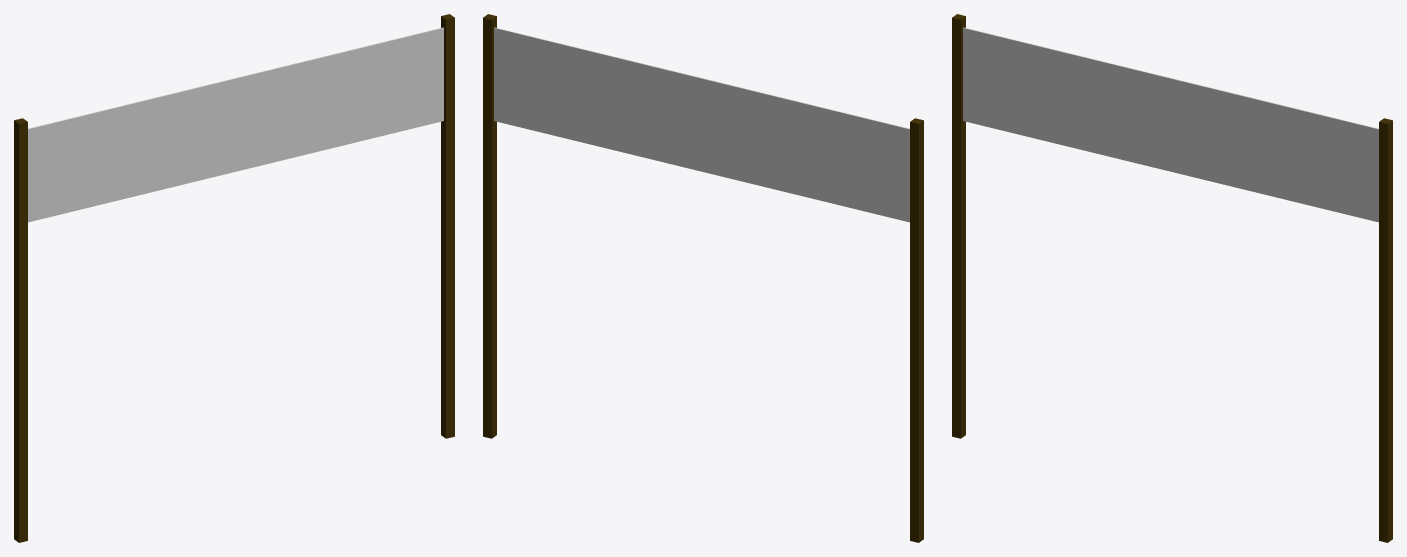
Rendered from Proto_Flag_01.fbx.
3 views of the same model, side by side, from view 1: azimuth 30°, elevation 25°; view 2: azimuth 150°, elevation 25°; view 3: azimuth 330°, elevation 25° (orthographic).
Parts seen in each view (by area): view 1: Proto_Flag_01; view 2: Proto_Flag_01; view 3: Proto_Flag_01.
Boxes of the visible parts, bbox=[...] form: Proto_Flag_01: bbox=[14, 14, 454, 542]; Proto_Flag_01: bbox=[483, 14, 923, 542]; Proto_Flag_01: bbox=[952, 14, 1392, 542].
Size of the model in its own units: 24.5 by 22.5 by 0.5.
